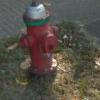Hydrant: (17, 2, 60, 81)
